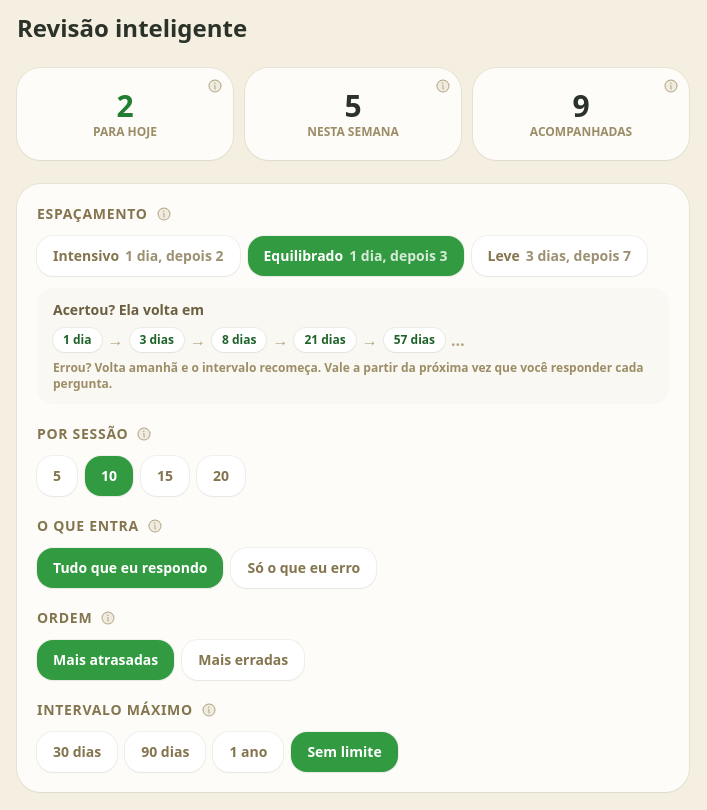
Test case: ReviewPage › explains what each counter counts
Expected: the list named "intervalo" is shown, [53,328,465,352]
Click the button named "O que conta em nesta semana" at (443, 86), box [433,76,453,96]
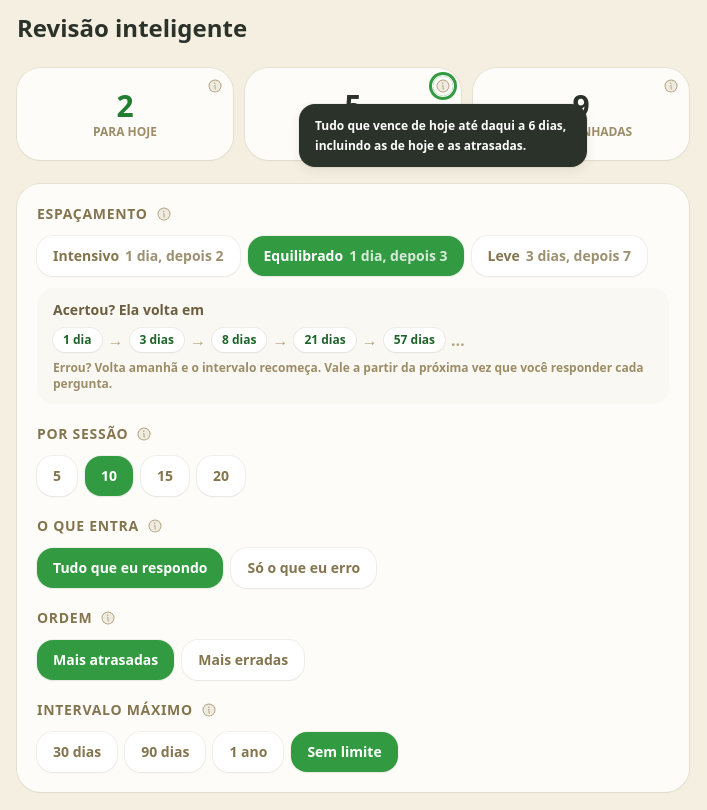
Result: the tooltip shows "Tudo que vence de hoje até daqui a 6 dias" at [315,117,566,154]
